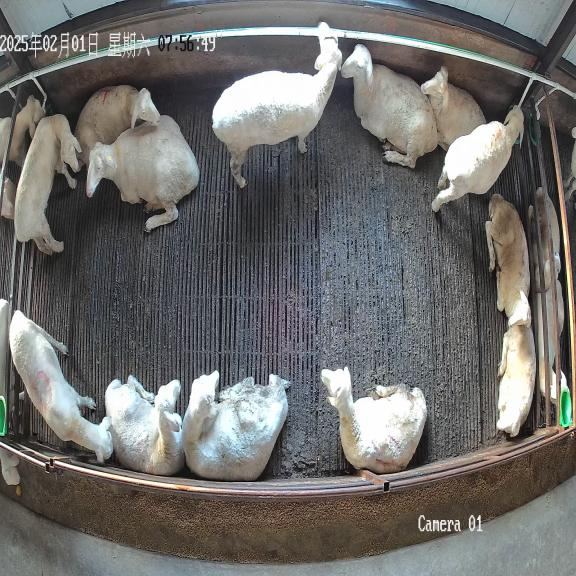drinking: (432, 106, 524, 212)
lying: (87, 115, 199, 232), (341, 44, 437, 168), (182, 370, 288, 481), (321, 367, 427, 474), (105, 376, 184, 475), (74, 85, 159, 164), (486, 194, 530, 325), (421, 66, 486, 151), (496, 325, 536, 437)
stand: (212, 22, 342, 188), (9, 310, 112, 462), (14, 114, 81, 255)
